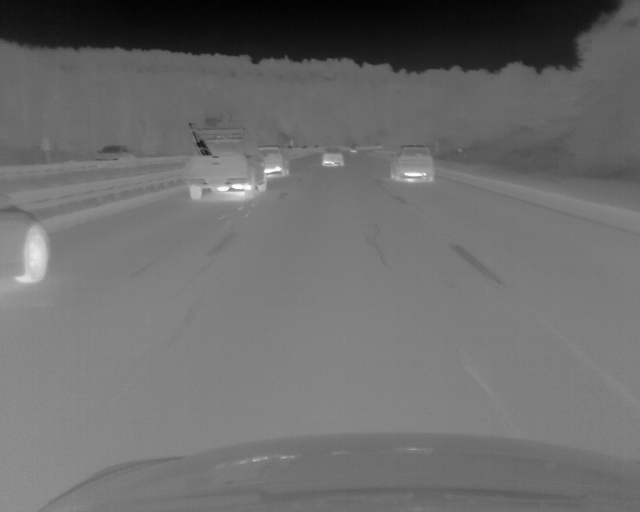car: (180, 120, 267, 201), (1, 192, 49, 284), (388, 144, 435, 182), (261, 146, 291, 177), (94, 144, 133, 162), (322, 149, 344, 166)
